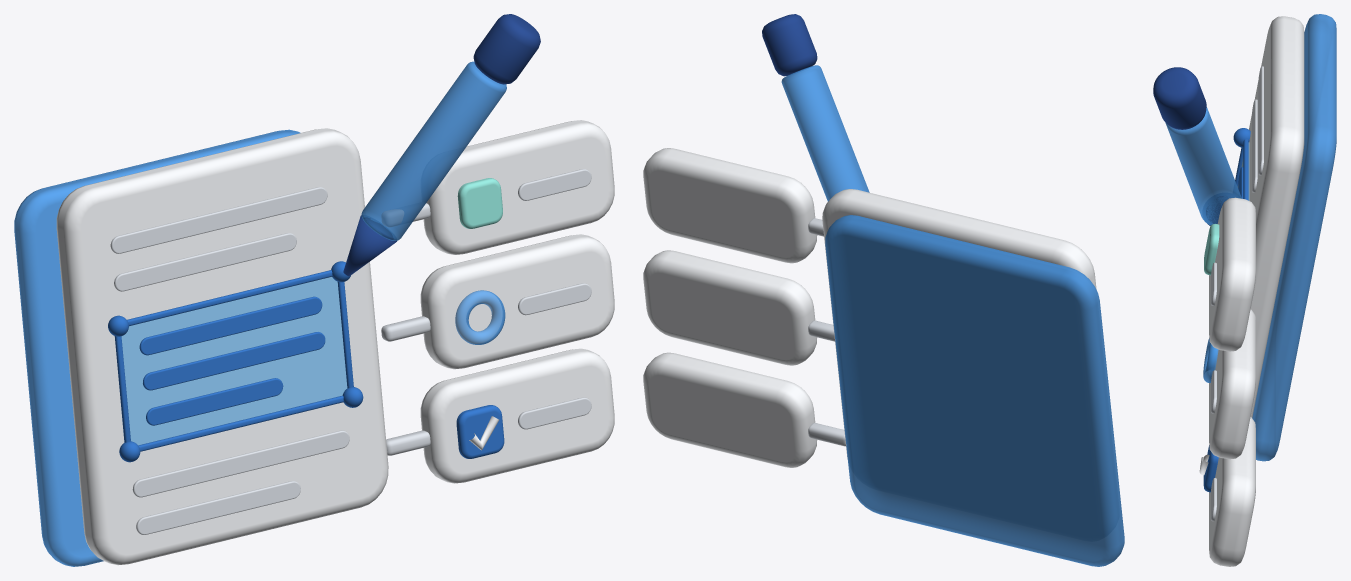
Rendered from module-06.glb.
The picture shows the model from 3 angles, left to right: view 1: azimuth 30°, elevation 25°; view 2: azimuth 150°, elevation 25°; view 3: azimuth 270°, elevation 25°; orthographic projection. The views are drawn at different scales.
Parts seen in each view (by area): view 1: doc_slab, backing, chip1_body, sel_fill, chip2_body, chip0_body, stylus_body, doc_line0, doc_line2, doc_line1, sel_line0, sel_line1 (+16 smaller); view 2: backing, chip1_body, chip0_body, chip2_body, doc_slab, stylus_body, stylus_cap, chip2_link; view 3: backing, doc_slab, chip0_body, chip1_body, chip2_body, stylus_body, stylus_cap, doc_line0, chip0_mark, doc_line1, chip1_mark, chip2_mark (+2 smaller).
Part boxes in pixels (bbox=[...]): doc_slab: bbox=[56, 128, 388, 565]; backing: bbox=[14, 129, 300, 566]; chip1_body: bbox=[420, 234, 614, 369]; sel_fill: bbox=[121, 277, 347, 445]; chip2_body: bbox=[420, 348, 614, 483]; chip0_body: bbox=[423, 120, 614, 254]; stylus_body: bbox=[361, 61, 506, 240]; doc_line0: bbox=[110, 187, 327, 253]; doc_line2: bbox=[132, 430, 349, 497]; doc_line1: bbox=[114, 233, 296, 291]; sel_line0: bbox=[139, 296, 322, 355]; sel_line1: bbox=[143, 332, 325, 390]; backing: bbox=[825, 215, 1124, 566]; chip1_body: bbox=[643, 250, 817, 365]; chip0_body: bbox=[643, 148, 817, 263]; chip2_body: bbox=[643, 352, 817, 467]; doc_slab: bbox=[822, 189, 1096, 458]; stylus_body: bbox=[781, 65, 869, 201]; stylus_cap: bbox=[762, 14, 817, 76]; chip2_link: bbox=[808, 423, 845, 446]; backing: bbox=[1252, 14, 1336, 461]; doc_slab: bbox=[1249, 16, 1304, 417]; chip0_body: bbox=[1209, 197, 1255, 351]; chip1_body: bbox=[1209, 309, 1255, 459]; chip2_body: bbox=[1209, 417, 1255, 566]; stylus_body: bbox=[1165, 107, 1241, 225]; stylus_cap: bbox=[1153, 67, 1206, 129]; doc_line0: bbox=[1258, 66, 1263, 175]; chip0_mark: bbox=[1204, 223, 1219, 275]; doc_line1: bbox=[1252, 99, 1257, 192]; chip1_mark: bbox=[1203, 338, 1218, 382]; chip2_mark: bbox=[1203, 445, 1218, 492].
Bounding box in the file's own units: 2.4 × 2.04 × 0.7416.
